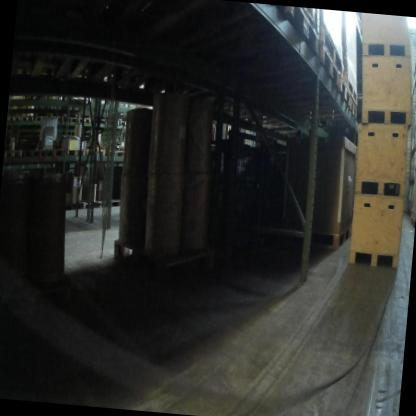pallet: (205, 30, 344, 102), (99, 224, 222, 295), (196, 0, 324, 65), (274, 87, 362, 128), (274, 69, 352, 112), (264, 218, 352, 254), (71, 190, 104, 219), (92, 116, 118, 133), (25, 145, 47, 165), (83, 144, 109, 160), (4, 145, 24, 164), (46, 144, 65, 162), (64, 148, 86, 162), (102, 195, 122, 210), (108, 148, 127, 163), (20, 110, 34, 124), (9, 110, 22, 125), (61, 114, 78, 125), (47, 113, 63, 124), (33, 112, 48, 123), (77, 115, 92, 125), (407, 216, 415, 231), (411, 61, 416, 80)
